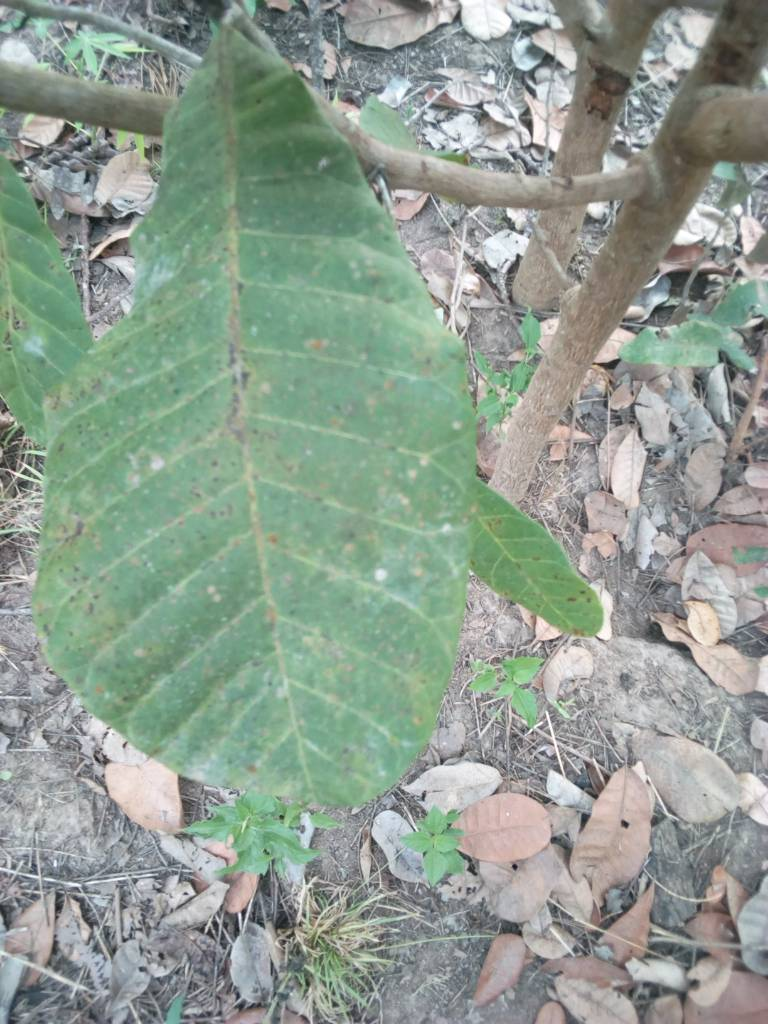Pestalotiose: (111, 72, 466, 810)
